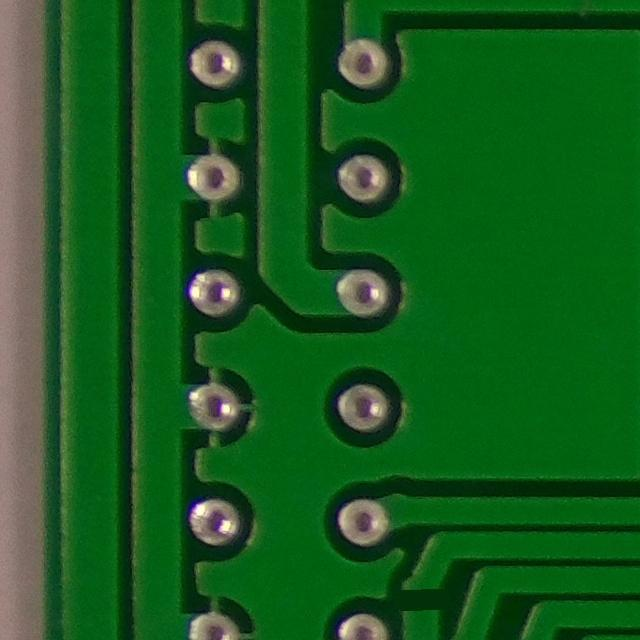open_circuit: (386, 571, 459, 630)
